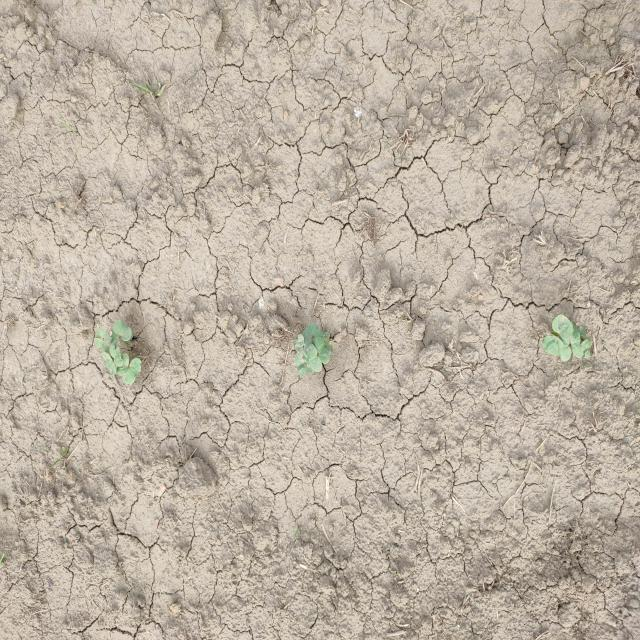seedling_s2: (552, 314, 574, 340), (123, 357, 141, 384), (307, 343, 322, 373), (543, 335, 563, 356), (113, 319, 132, 341), (315, 337, 329, 364), (109, 342, 123, 367), (575, 339, 592, 359), (558, 336, 571, 362), (102, 352, 116, 376), (312, 329, 330, 346), (117, 352, 129, 376), (570, 329, 581, 355), (294, 356, 307, 376), (302, 323, 318, 339), (96, 328, 112, 343), (94, 338, 109, 353), (303, 335, 312, 358), (296, 334, 304, 357), (303, 356, 313, 374)
